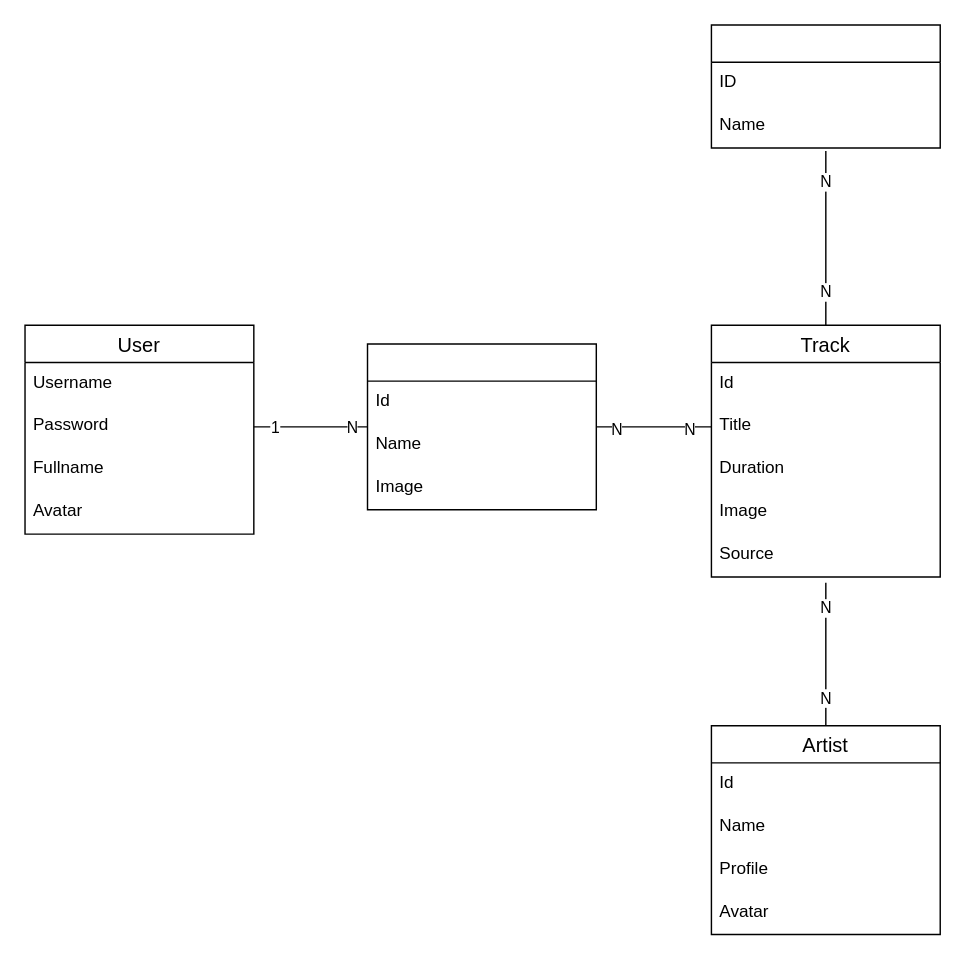
The diagram is 965 pixels wide and 964 high, and some of its shapes have lost their labels. Each missing label, with the box of its shape:
Genre: (710, 24, 940, 148)
Playlist: (366, 342, 596, 510)
